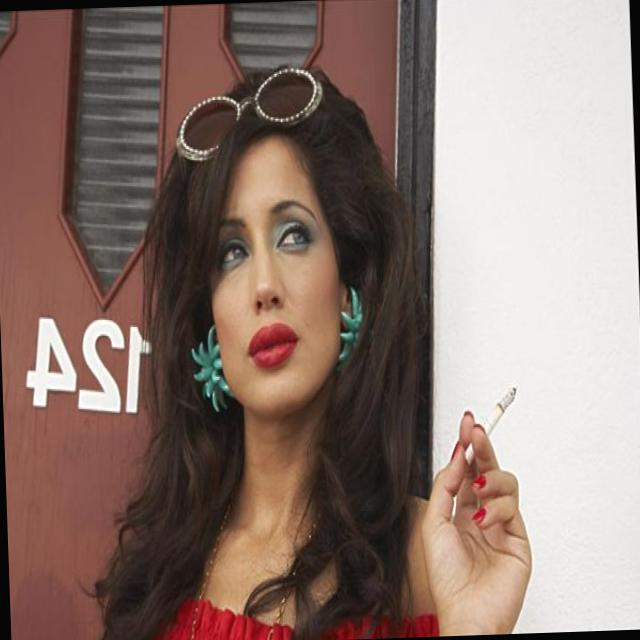smoke: (457, 383, 529, 463)
